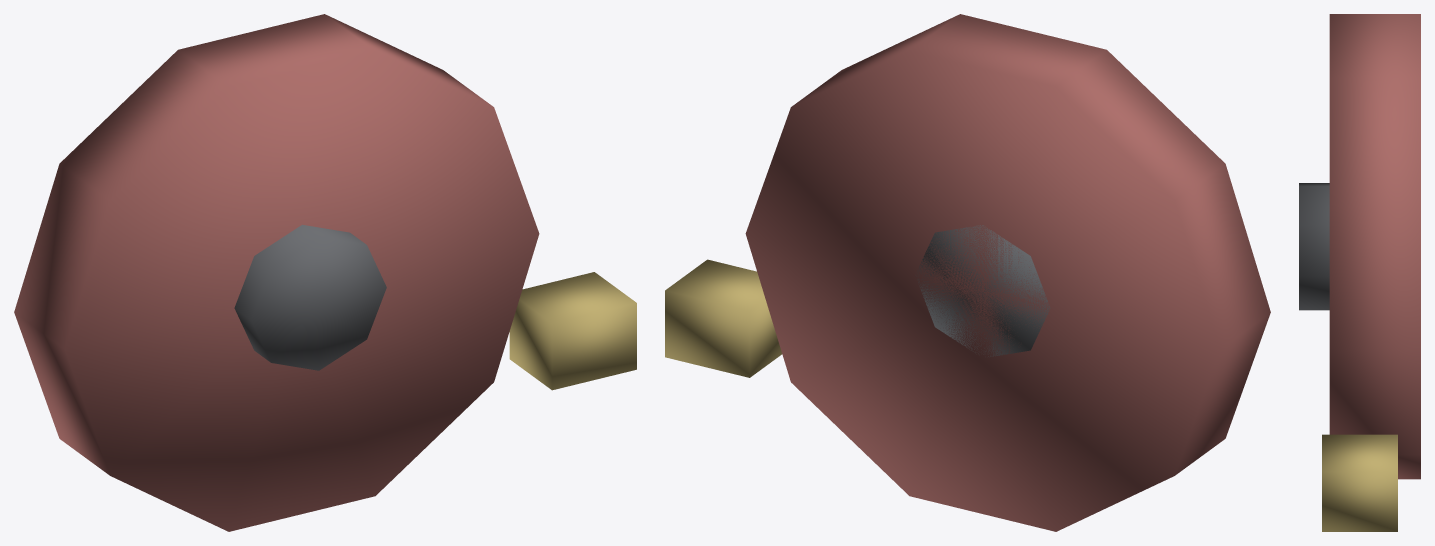
File: hose_reel_11.glb
The picture shows the model from 3 angles, left to right: view 1: azimuth 30°, elevation 25°; view 2: azimuth 150°, elevation 25°; view 3: azimuth 270°, elevation 25°; orthographic projection. The views are drawn at different scales.
Visible parts, largest first — view 1: world; view 2: world; view 3: world.
Part boxes in pixels (left/top/right/bottom): world: left=14, top=14, right=636, bottom=531; world: left=665, top=14, right=1270, bottom=531; world: left=1299, top=14, right=1420, bottom=531.
Size of the model in its own units: 0.6968 by 0.5219 by 0.144.
